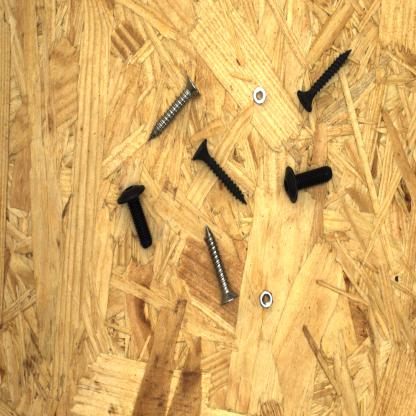screw: (146, 72, 202, 146), (191, 135, 249, 206), (296, 47, 353, 114), (203, 222, 242, 308), (116, 182, 155, 250), (282, 163, 334, 206)
